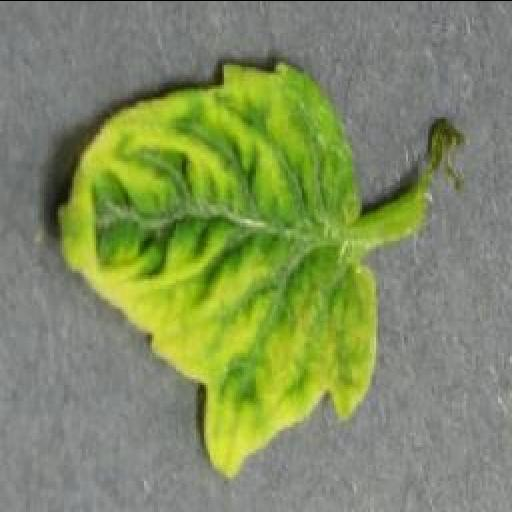disease_tomato: (58, 56, 376, 474)
